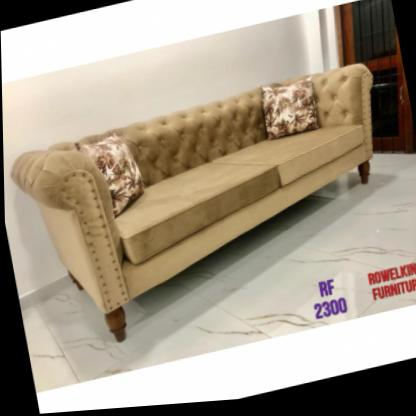Ceramic floor: (17, 157, 416, 396)
Sofa: (2, 61, 404, 352)
